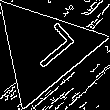L_SW: (14, 21, 75, 77)
